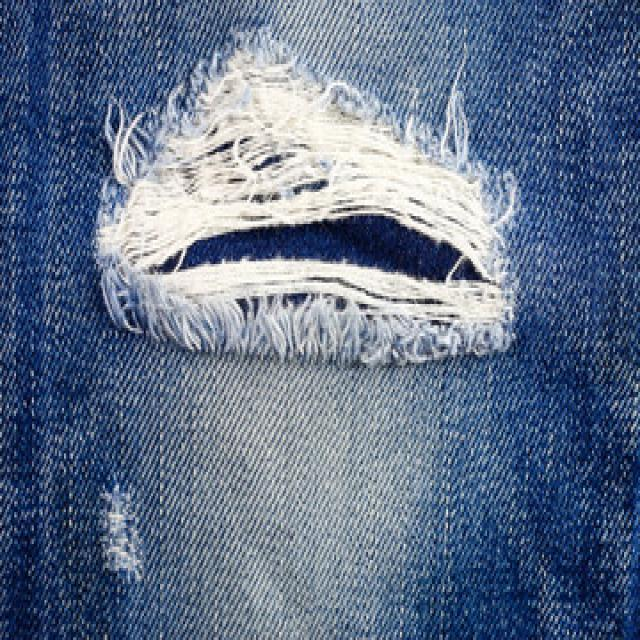Hole: (96, 30, 517, 366), (102, 486, 143, 582)
